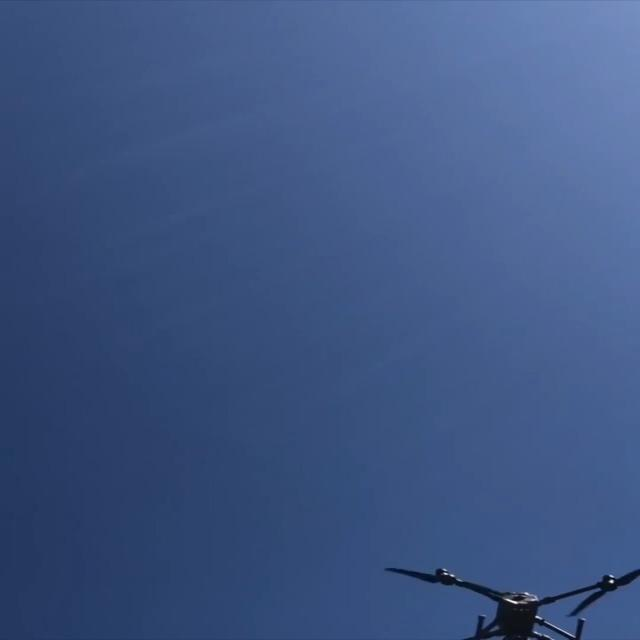drone: (382, 565, 638, 639)
